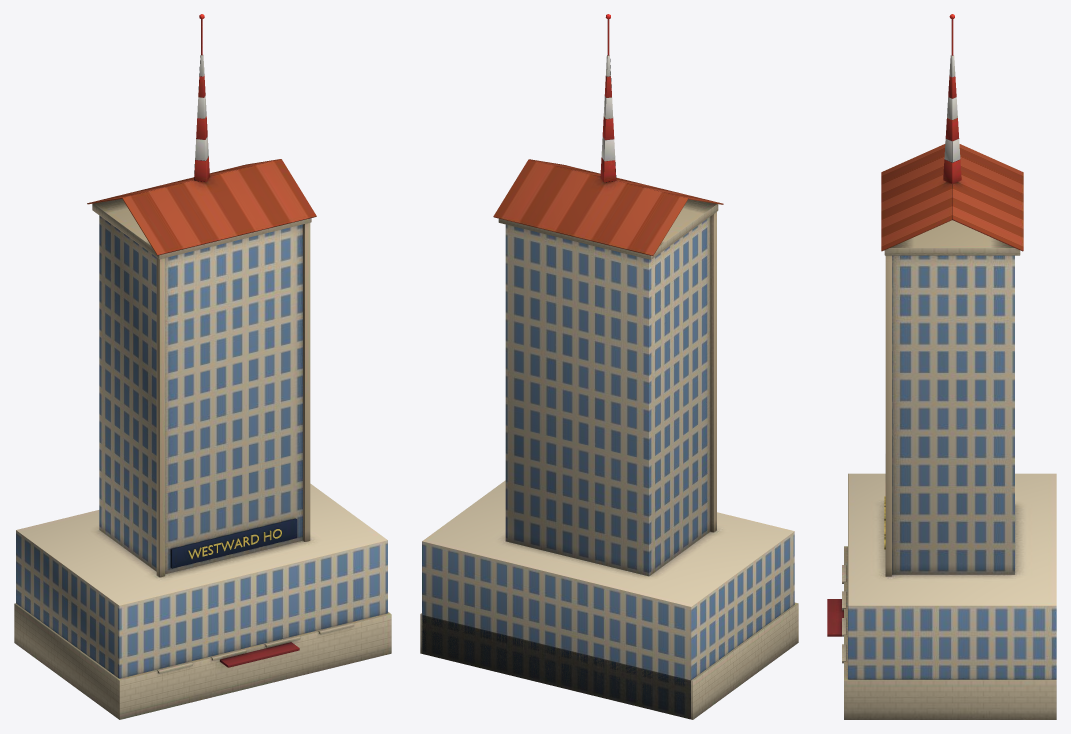
File: westward_ho.glb
3 renders of one model, left to right at view 1: azimuth 30°, elevation 25°; view 2: azimuth 150°, elevation 25°; view 3: azimuth 270°, elevation 25°, orthographic.
Visible parts, largest first — view 1: westward_ho; view 2: westward_ho; view 3: westward_ho.
Part boxes in pixels (left/top/right/bottom): westward_ho: left=14, top=14, right=391, bottom=719; westward_ho: left=420, top=14, right=798, bottom=719; westward_ho: left=827, top=14, right=1056, bottom=719.
Size of the model in its own units: 30.4 by 67.58 by 22.
Materials: 1 (1 with a texture image).
